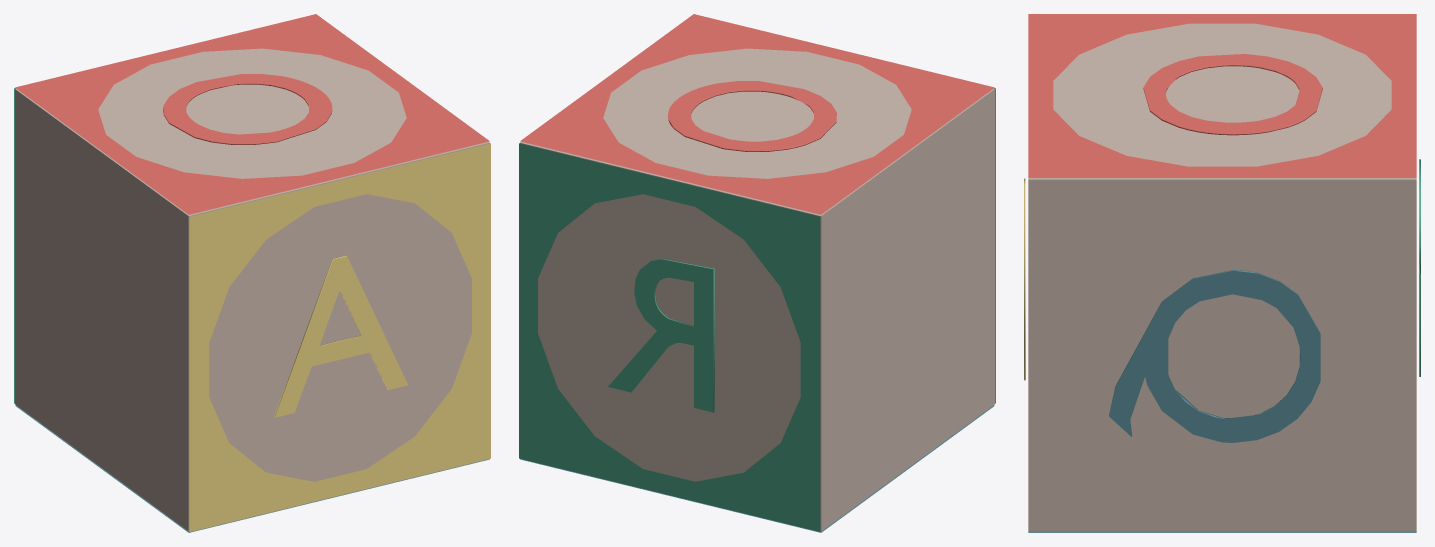
The picture shows the model from 3 angles, left to right: view 1: azimuth 30°, elevation 25°; view 2: azimuth 150°, elevation 25°; view 3: azimuth 270°, elevation 25°; orthographic projection. The views are drawn at different scales.
Parts seen in each view (by area): view 1: cube; view 2: cube; view 3: cube.
Part boxes in pixels (x1,y1,x2,y2): cube: (14, 14, 490, 532); cube: (519, 14, 995, 532); cube: (1024, 14, 1420, 532).
Size of the model in its own units: 0.0453 by 0.046 by 0.046.
